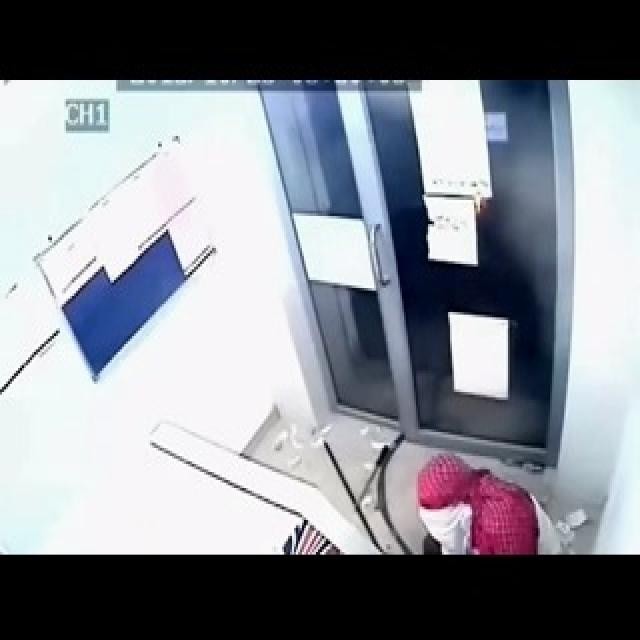thief: (403, 426, 573, 550)
